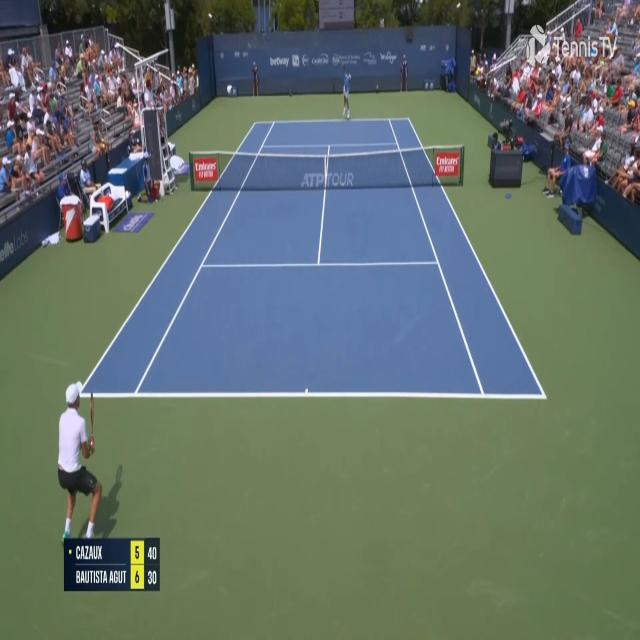tennis-player: (55, 319, 124, 546), (342, 66, 352, 119)
